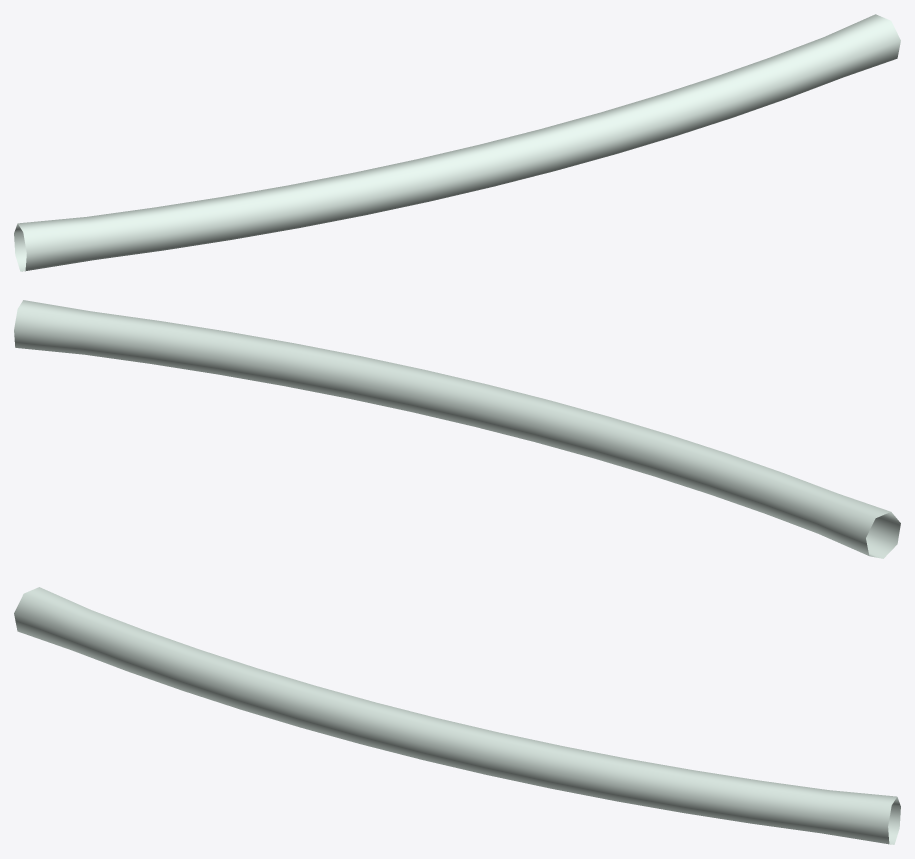
File: Norris_Maze_White_Wire_C2.fbx
3 renders of one model, top to bottom at view 1: azimuth 30°, elevation 25°; view 2: azimuth 150°, elevation 25°; view 3: azimuth 330°, elevation 25°, orthographic.
Visible parts, largest first — view 1: WireCurve6; view 2: WireCurve6; view 3: WireCurve6.
Boxes of the visible parts, box(x1,y1,x2,y2) form: WireCurve6: box(14, 14, 900, 271); WireCurve6: box(14, 300, 900, 558); WireCurve6: box(14, 587, 900, 844).
Size of the model in its own units: 18.96 by 0.9116 by 2.08.
